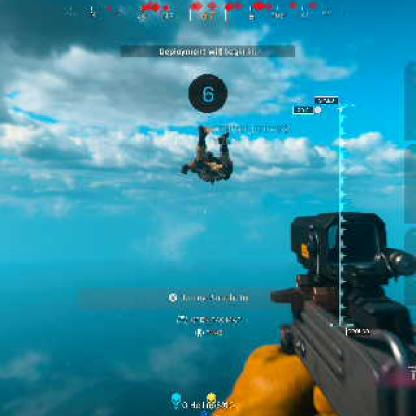enemy: (182, 129, 235, 183)
